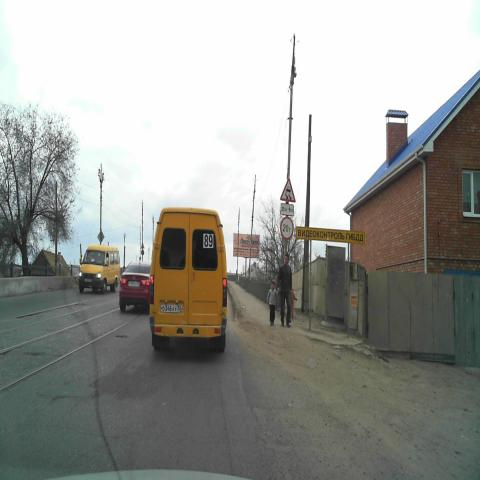1_15: (280, 178, 296, 202)
3_11: (280, 217, 294, 239)
8_5_4: (280, 203, 294, 216)
